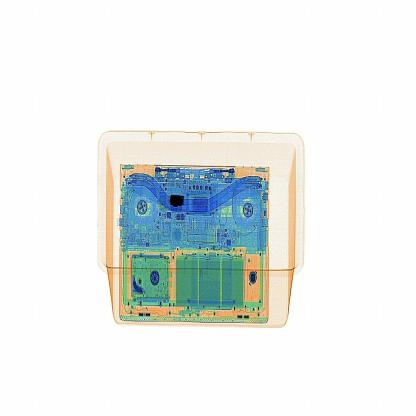scissors: (166, 187, 200, 215)
